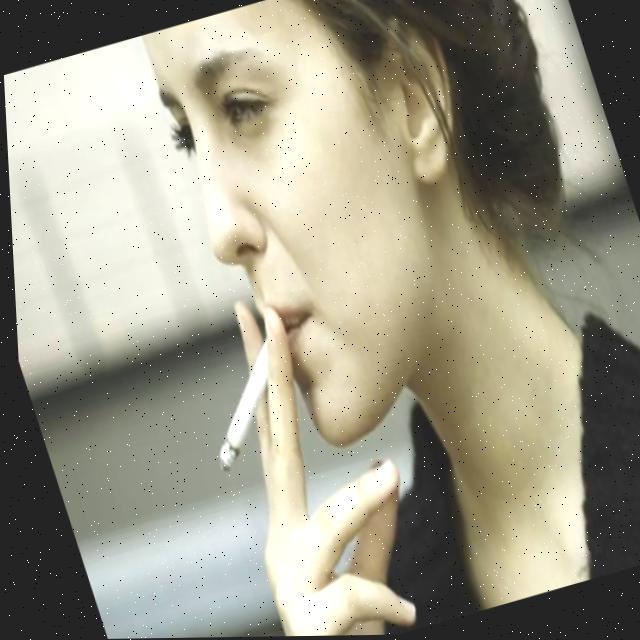cigarette: (219, 339, 269, 472)
